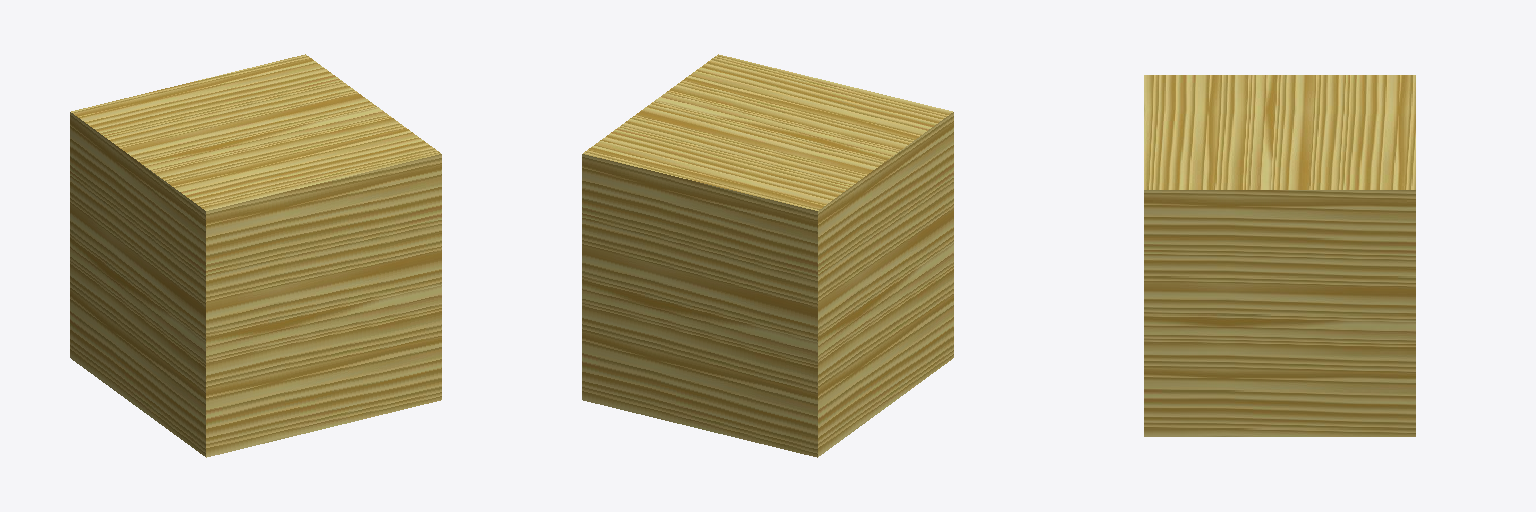
3 renders of one model, left to right at view 1: azimuth 30°, elevation 25°; view 2: azimuth 150°, elevation 25°; view 3: azimuth 270°, elevation 25°, orthographic.
Visible parts, largest first — view 1: Box001; view 2: Box001; view 3: Box001.
Boxes of the visible parts, <box> form: Box001: <box>70,54,441,457</box>; Box001: <box>582,54,953,457</box>; Box001: <box>1144,75,1415,436</box>.
Bounding box in the file's own units: 1 × 1 × 1.
1 materials, 1 textured.